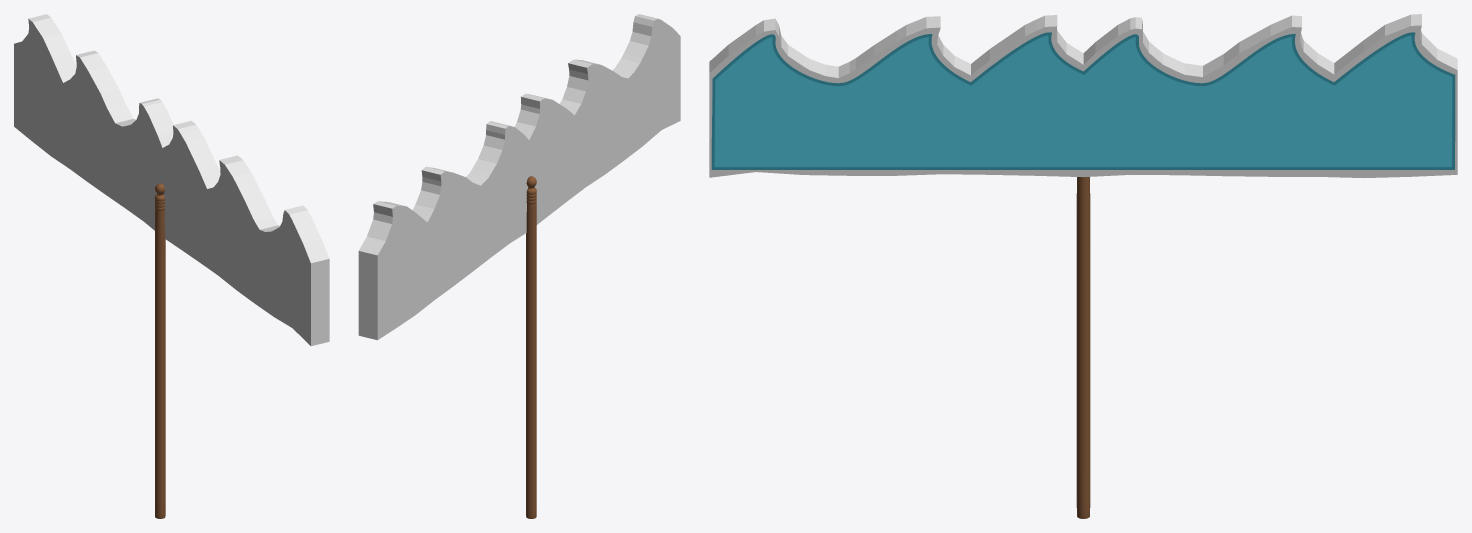
The model's file is Ola2_scn4.fbx.
3 views of the same model, side by side, from view 1: azimuth 30°, elevation 25°; view 2: azimuth 150°, elevation 25°; view 3: azimuth 270°, elevation 25° (orthographic). The views are drawn at different scales.
Parts seen in each view (by area): view 1: pCube5; view 2: pCube5; view 3: pCube5.
Boxes of the visible parts, <box> form: pCube5: <box>14,14,329,518</box>; pCube5: <box>358,14,680,518</box>; pCube5: <box>709,14,1457,518</box>.
Bounding box in the file's own units: 0.8666 × 12.85 × 17.3.
